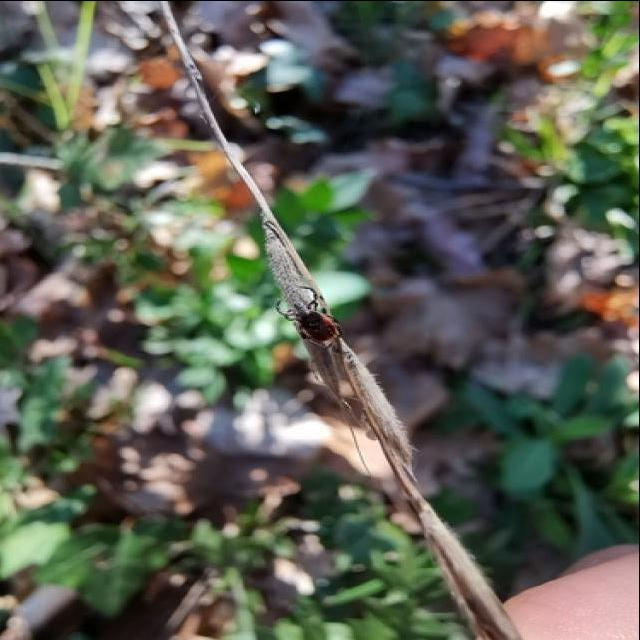Ixodes Ricinus-F: (278, 284, 346, 348)
